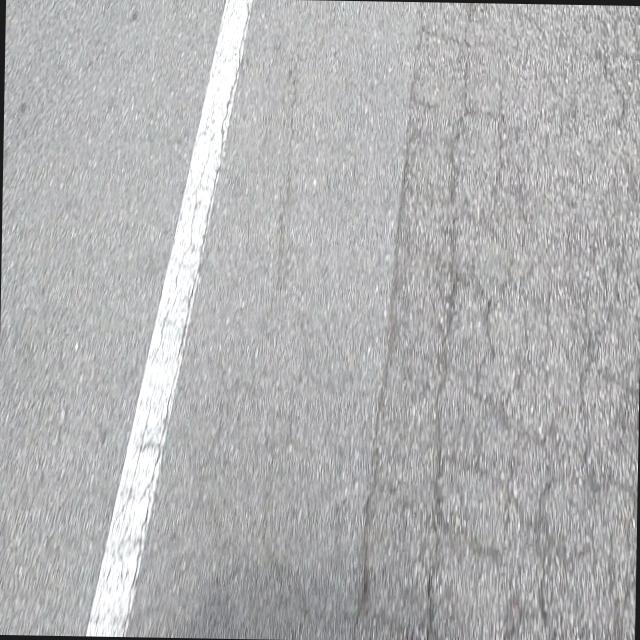Retak-Buaya: (361, 5, 640, 640)
